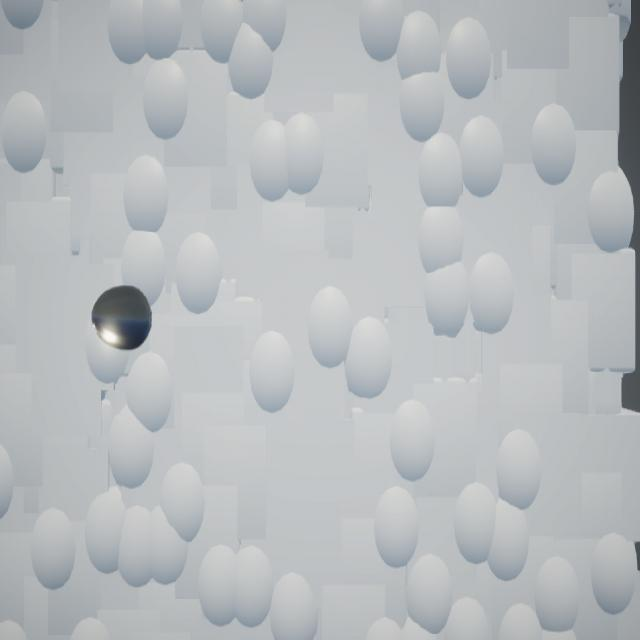top_spoon: (92, 286, 153, 352)
